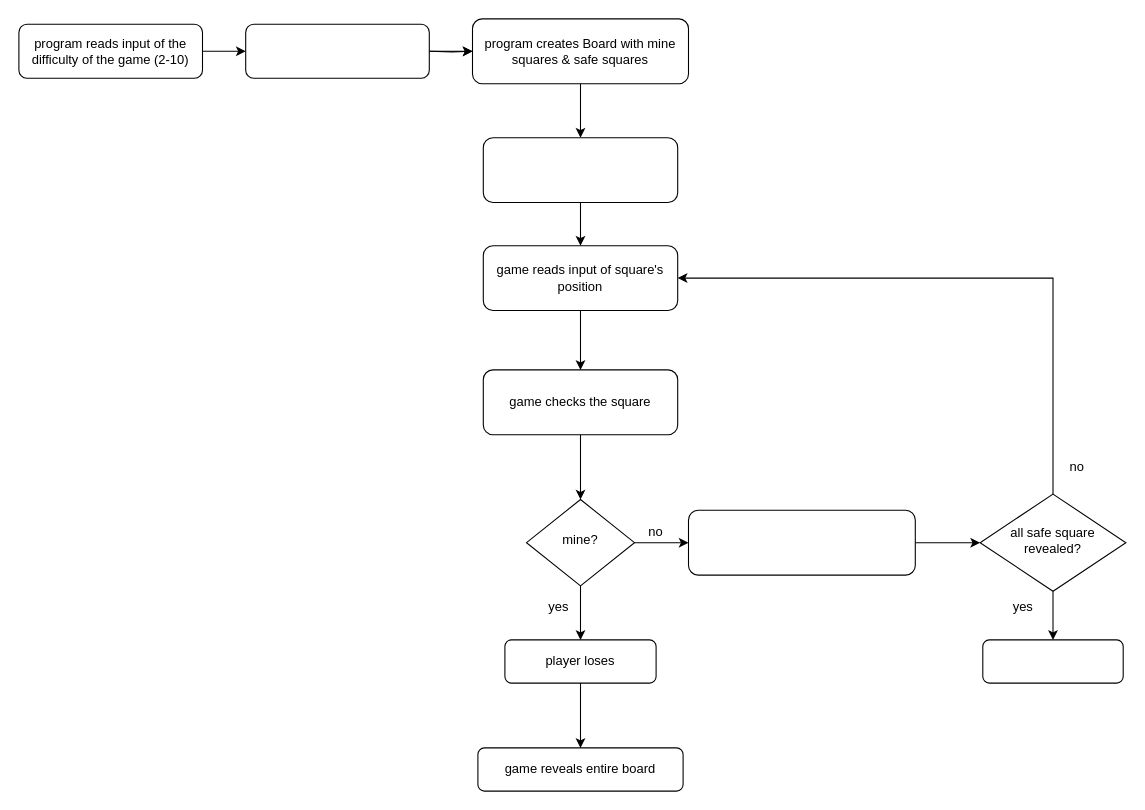
This 1145x810 diagram has some shape labels left out. The centre of each missing label's shape, as x and y in pixels:
game reveals the square with hint (number of mines surround the square): point (801, 542)
game shows hidden squares board: point (580, 169)
player wins: point (1052, 661)
program generates random mine positions: point (337, 50)
